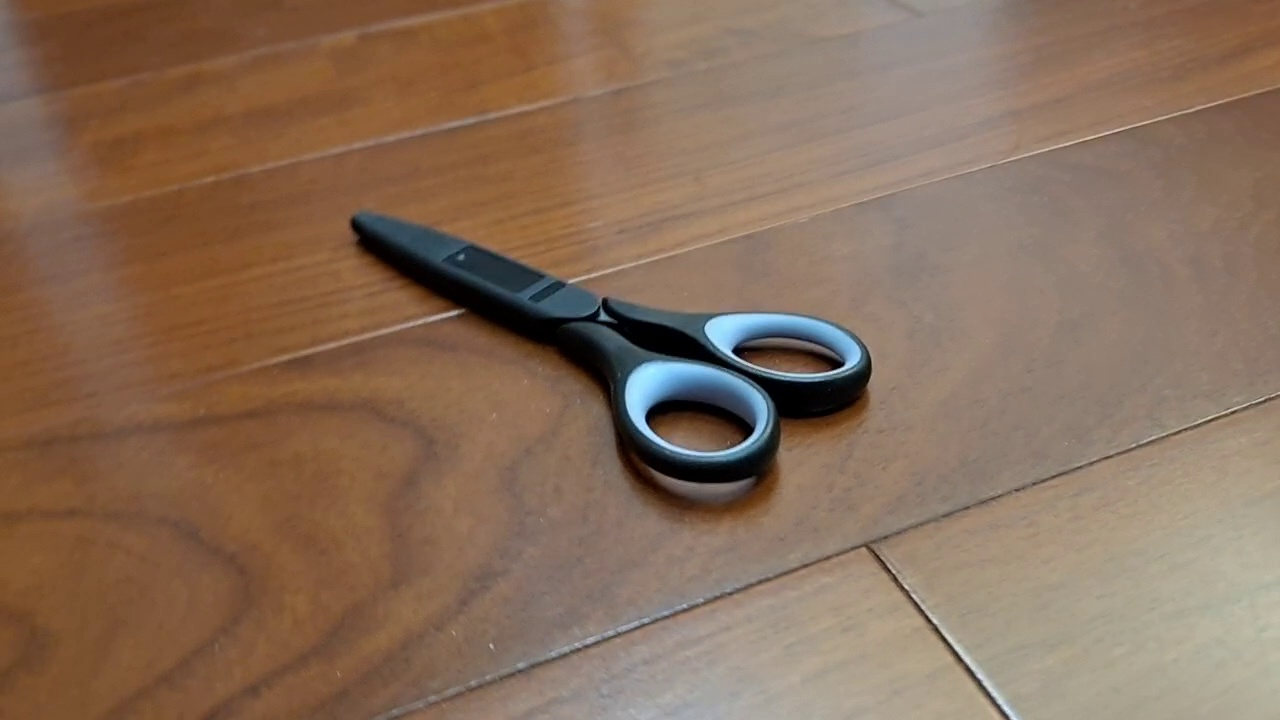scissors: (347, 211, 873, 485)
